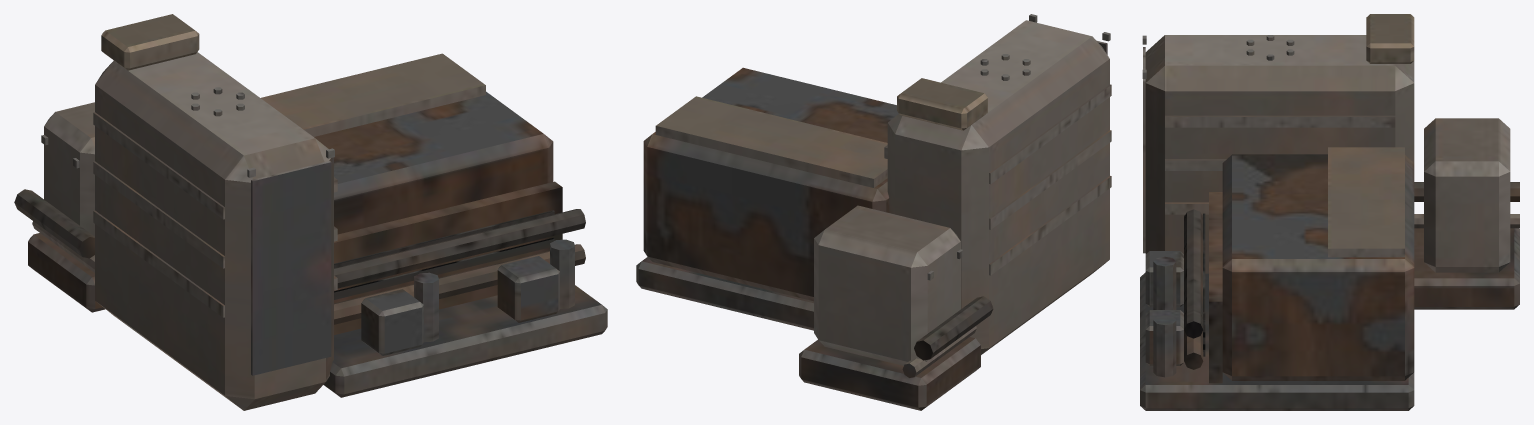
Rendered from cargo-bay-corner-sw.glb.
The picture shows the model from 3 angles, left to right: view 1: azimuth 30°, elevation 25°; view 2: azimuth 150°, elevation 25°; view 3: azimuth 270°, elevation 25°; orthographic projection. The views are drawn at different scales.
Visible parts, largest first — view 1: body; view 2: body; view 3: body.
Part boxes in pixels (box(x1,y1,x2,y2)): body: box(14, 14, 607, 410); body: box(636, 14, 1111, 410); body: box(1140, 14, 1519, 410).
Size of the model in its own units: 2.03 by 1.42 by 1.98.
1 material, 1 textured.
